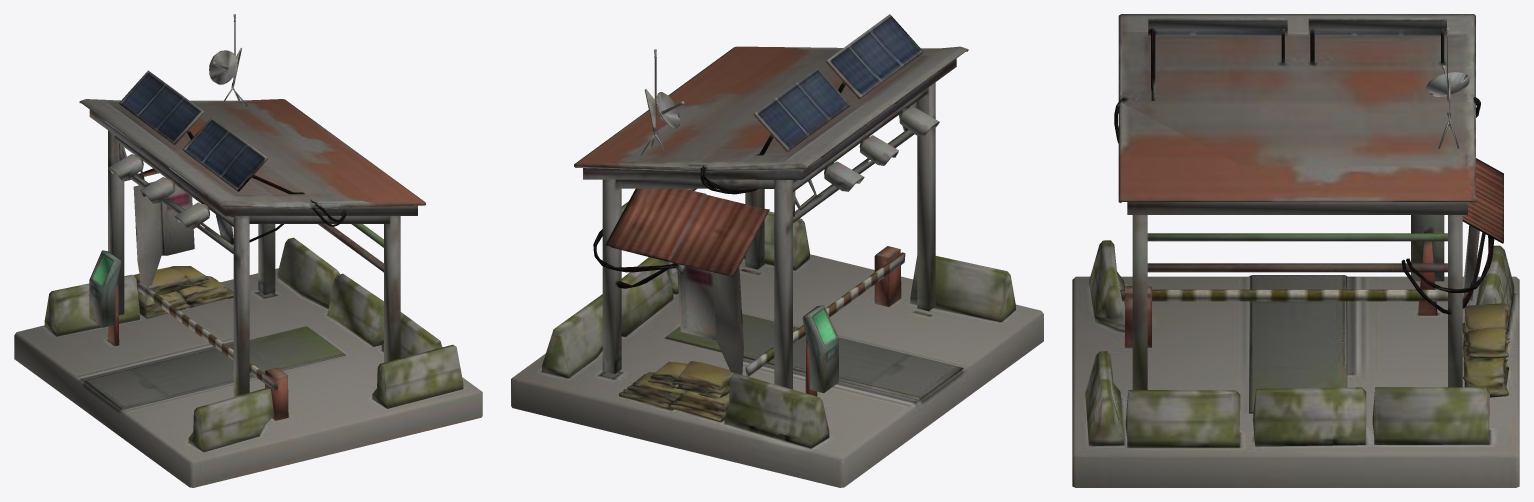
The model's file is checkpoint.glb.
3 renders of one model, left to right at view 1: azimuth 30°, elevation 25°; view 2: azimuth 150°, elevation 25°; view 3: azimuth 270°, elevation 25°, orthographic. The views are drawn at different scales.
Parts seen in each view (by area): view 1: Body; view 2: Body; view 3: Body.
Part boxes in pixels (x1,y1,x2,y2): Body: (14,14,482,487); Body: (511,14,1043,487); Body: (1072,14,1519,487).
Size of the model in its own units: 12 by 12.45 by 12.64.
1 material, 1 textured.
